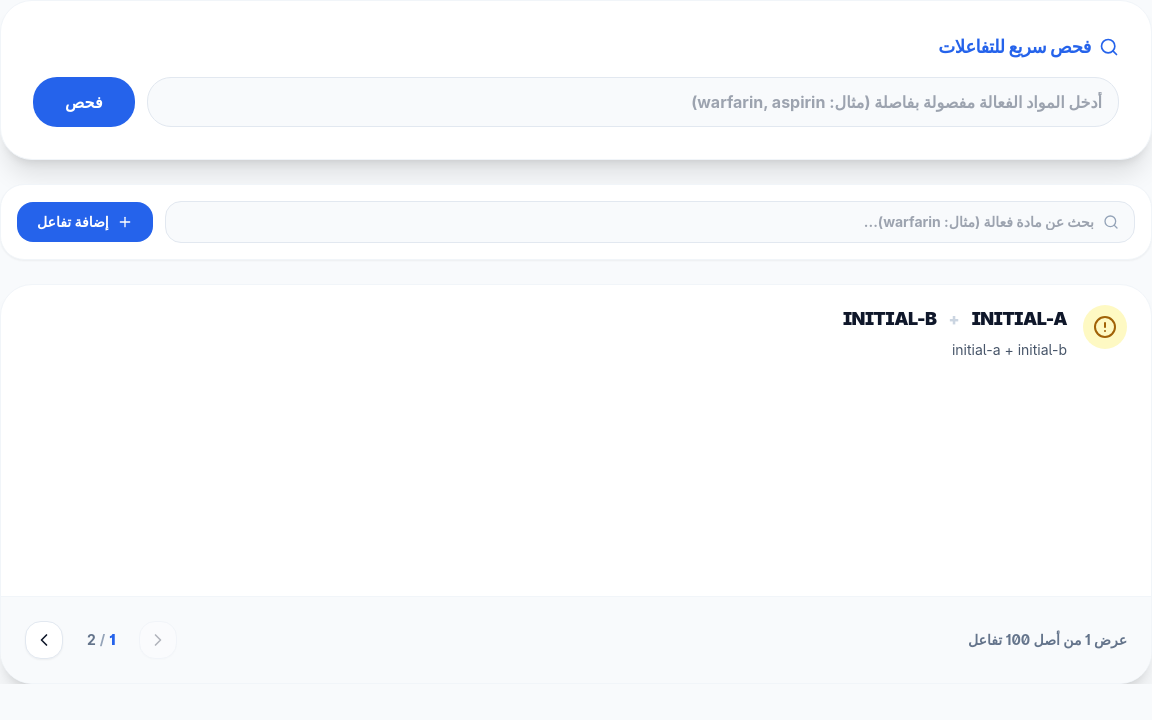
Test case: interactions client ownership › refreshes the currently owned page after a successful add
Click the button named "الصفحة التالية" at (44, 640), box [25,621,63,659]
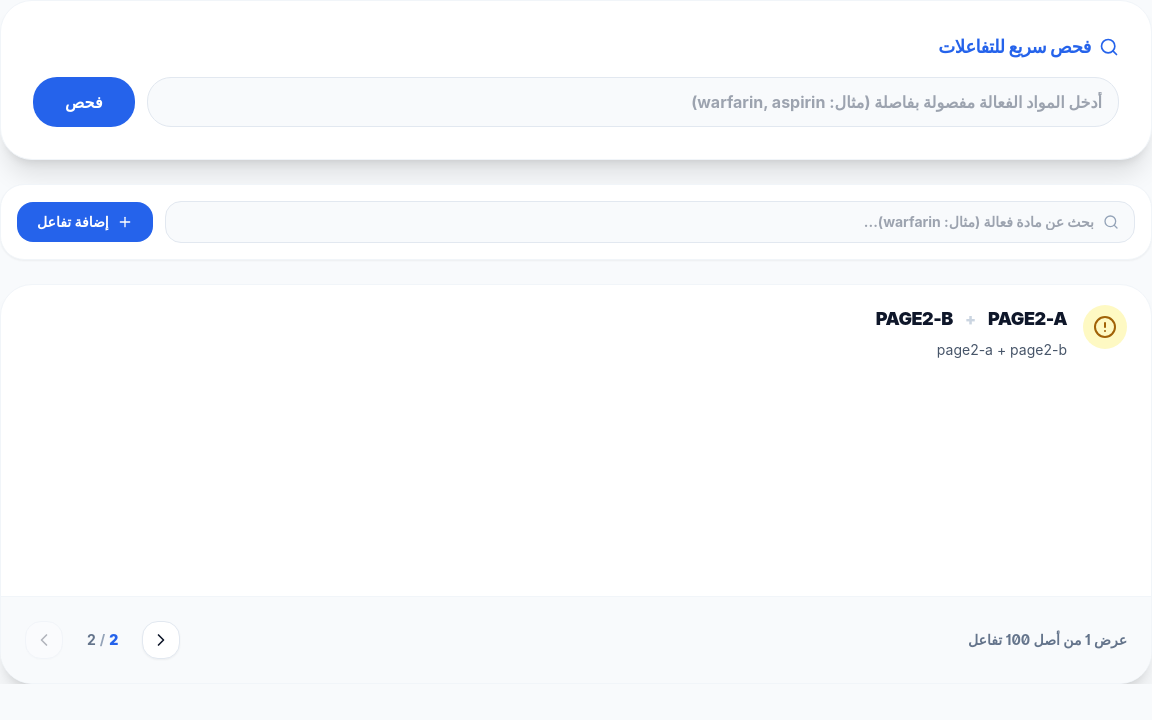
Check: the text "page2-a" is shown, box [988,305,1067,333]
Click the button "إضافة تفاعل" at (85, 222), box [17,202,153,242]
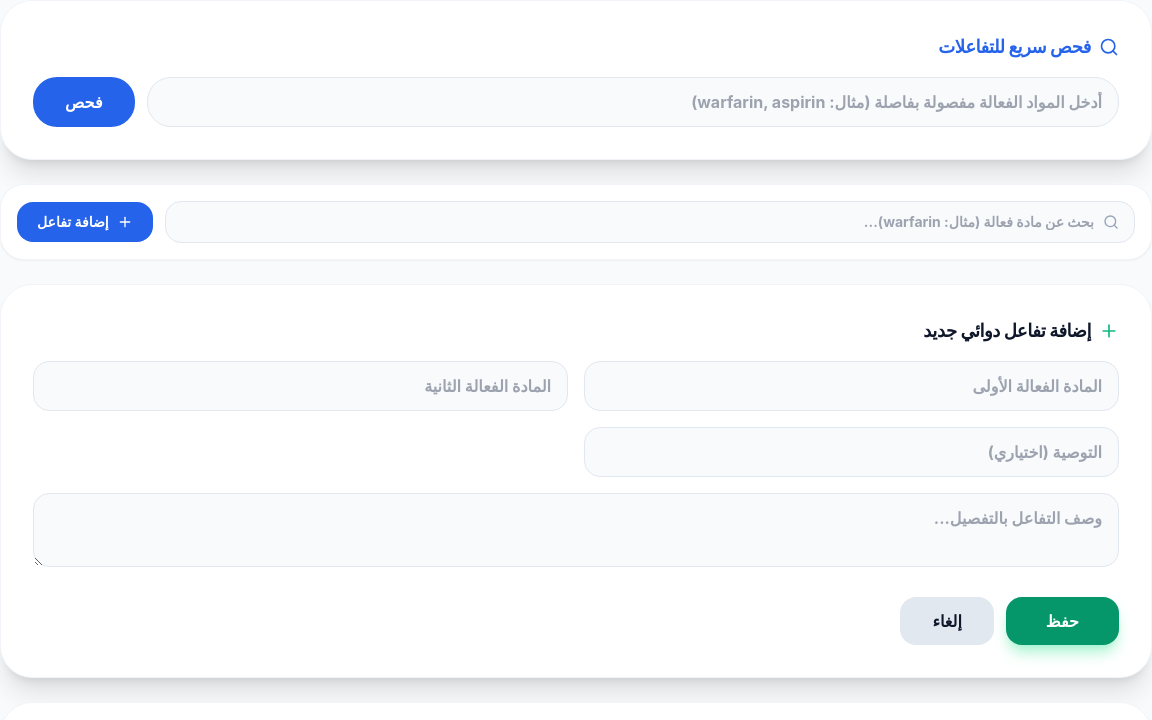
Type "warfarin" into the field with placeholder "المادة الفعالة الأولى" at (852, 386), box [584,361,1119,411]
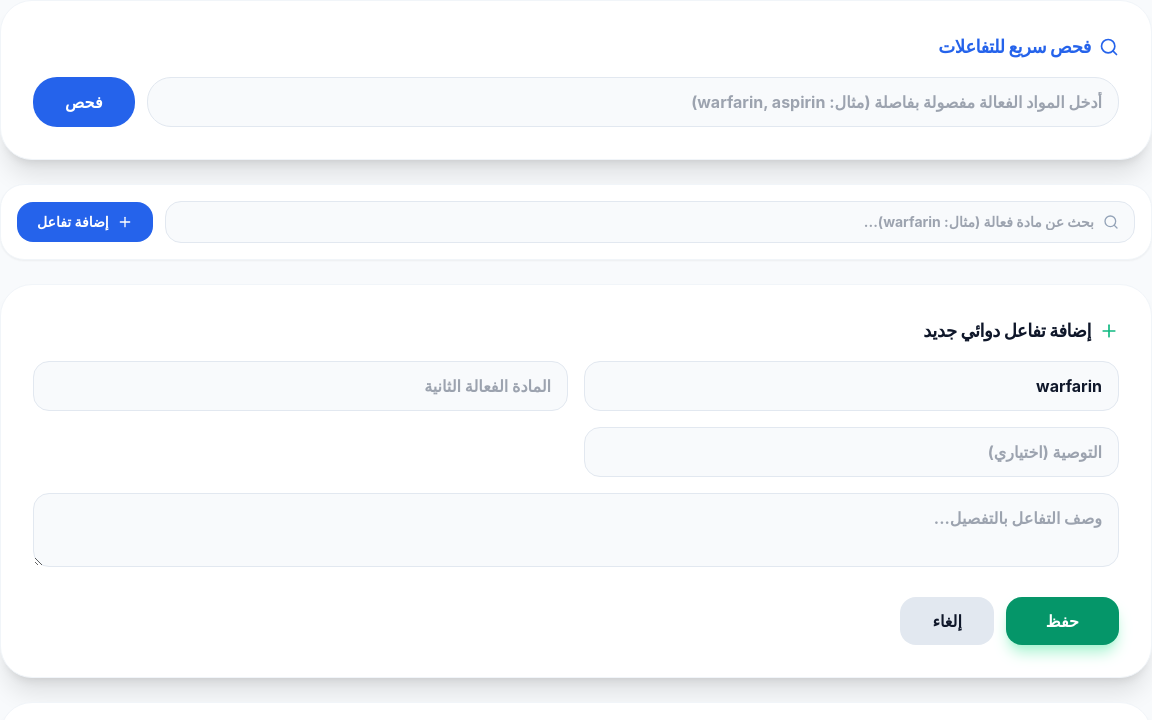
Type "aspirin" into the field with placeholder "المادة الفعالة الثانية" at (300, 386), box [33,361,568,411]
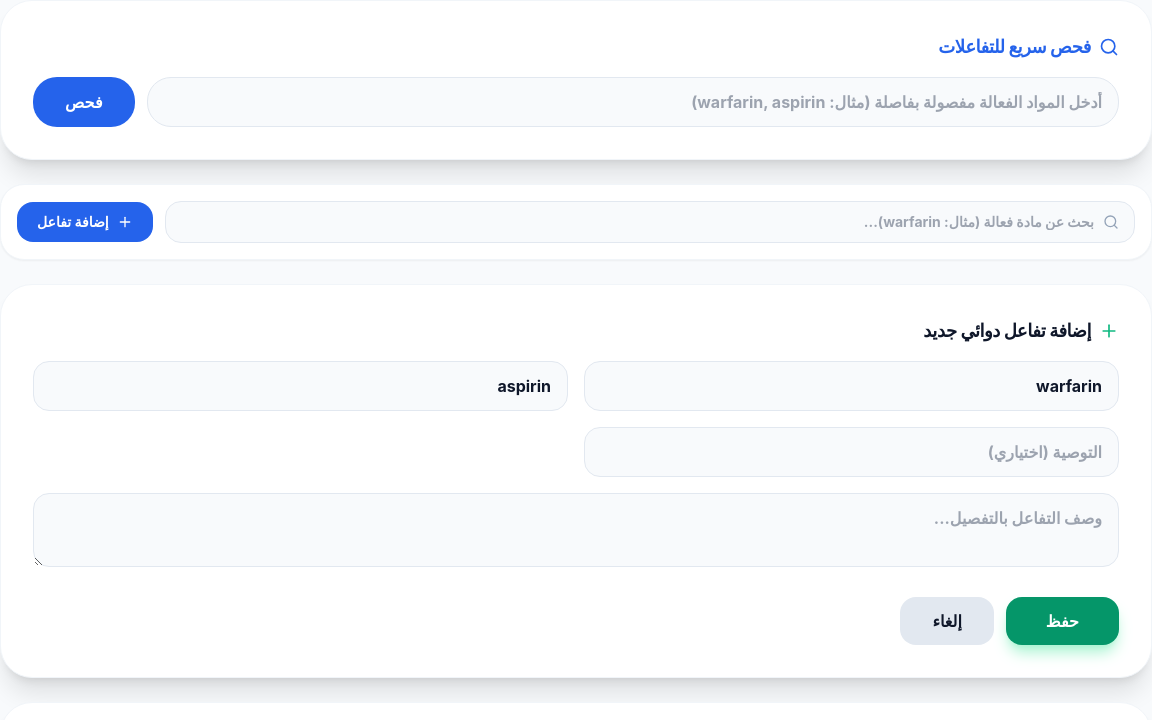
Type "وصف" into the text box with placeholder "وصف التفاعل بالتفصيل..." at (576, 530), box [33,493,1119,567]
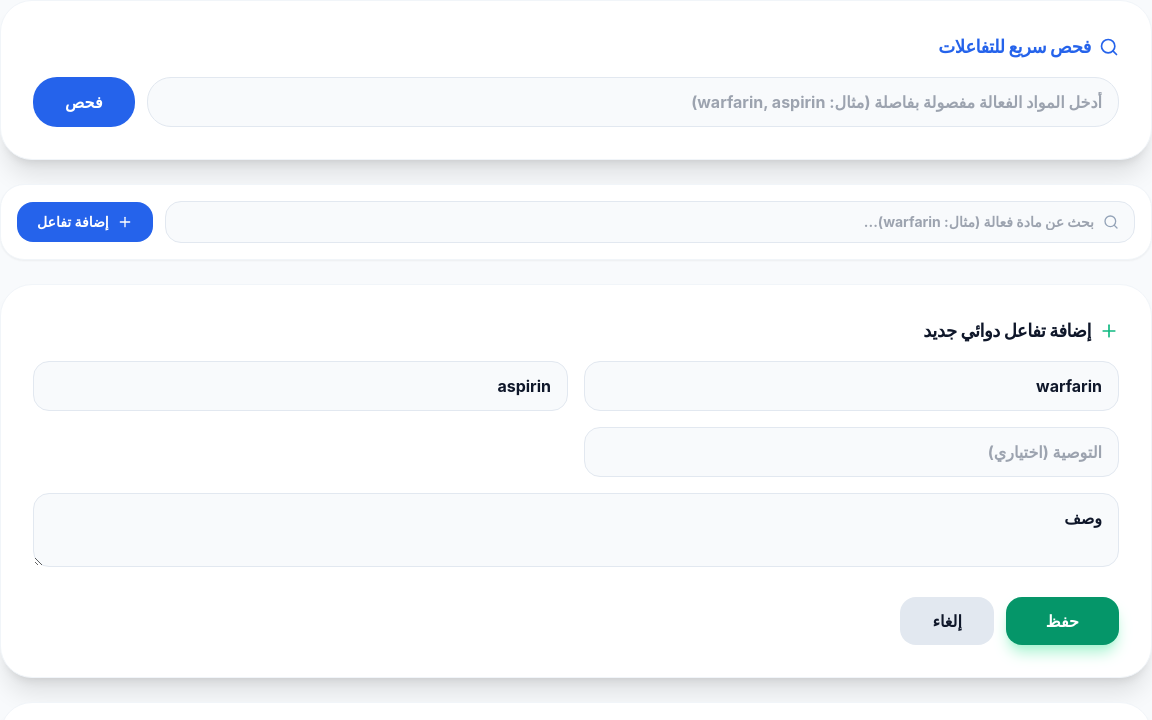
Click the button "حفظ" at (1062, 621), box [1006,597,1119,645]
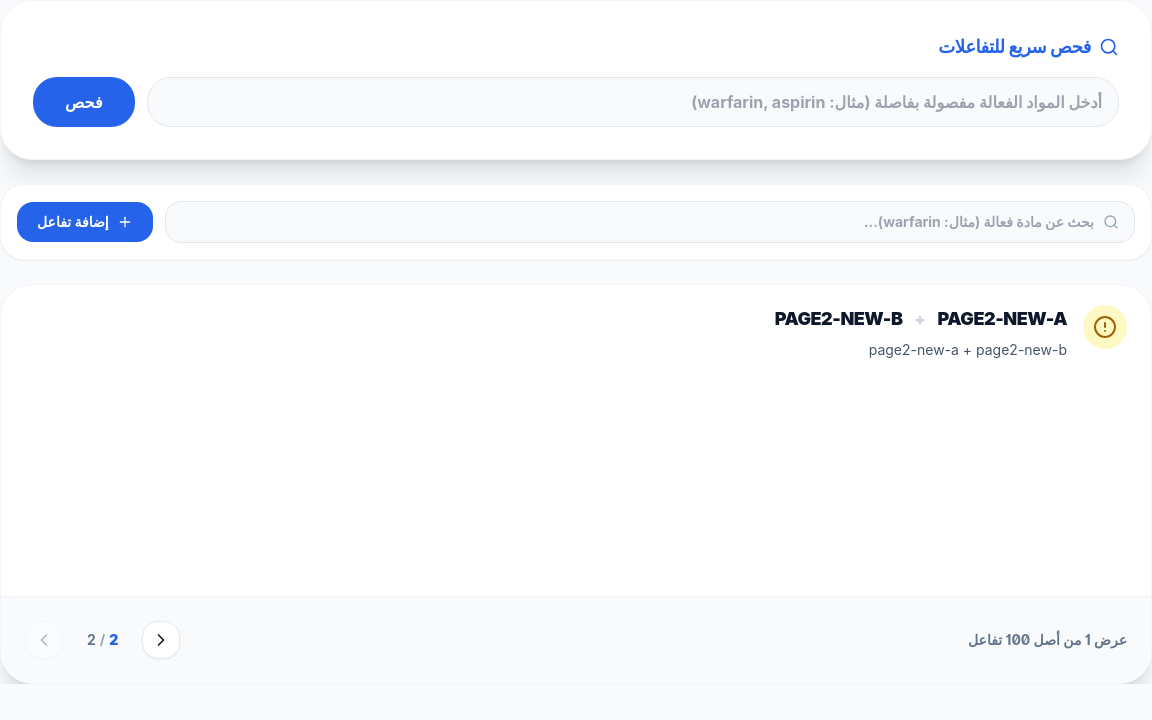
Check: the 2nd text "2" is shown, box [109,630,118,650]
Check: the text "page2-new-a" is shown, box [938,305,1067,333]
